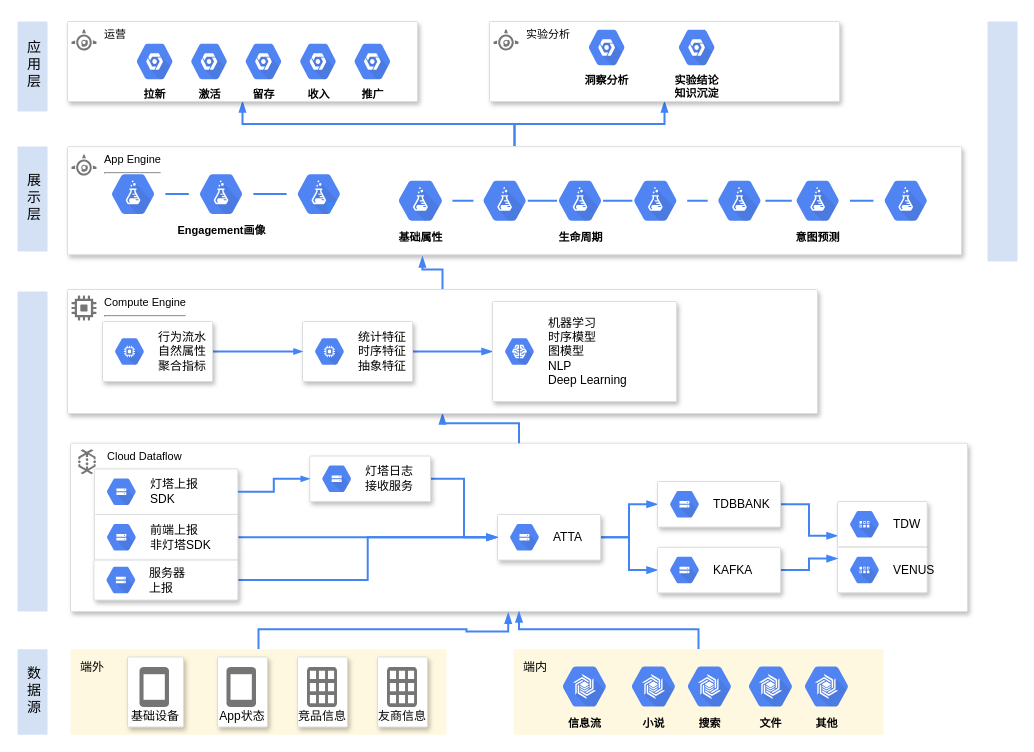
This 1034x752 diagram has some shape labels left out. The shapes that lost their labels are listed below. From the top down, each one's centre as x and y in pixels, then its label:
(x=1002, y=141): 标 签 质 量 监 控
(x=132, y=193): 交叉渗透画像
(x=318, y=193): 实时画像
(x=504, y=200): 行为表现
(x=655, y=200): 兴趣垂类
(x=739, y=200): 潜在价值
(x=905, y=200): 策略敏感度
(x=32, y=451): 数 据 存 储 与 计 算
